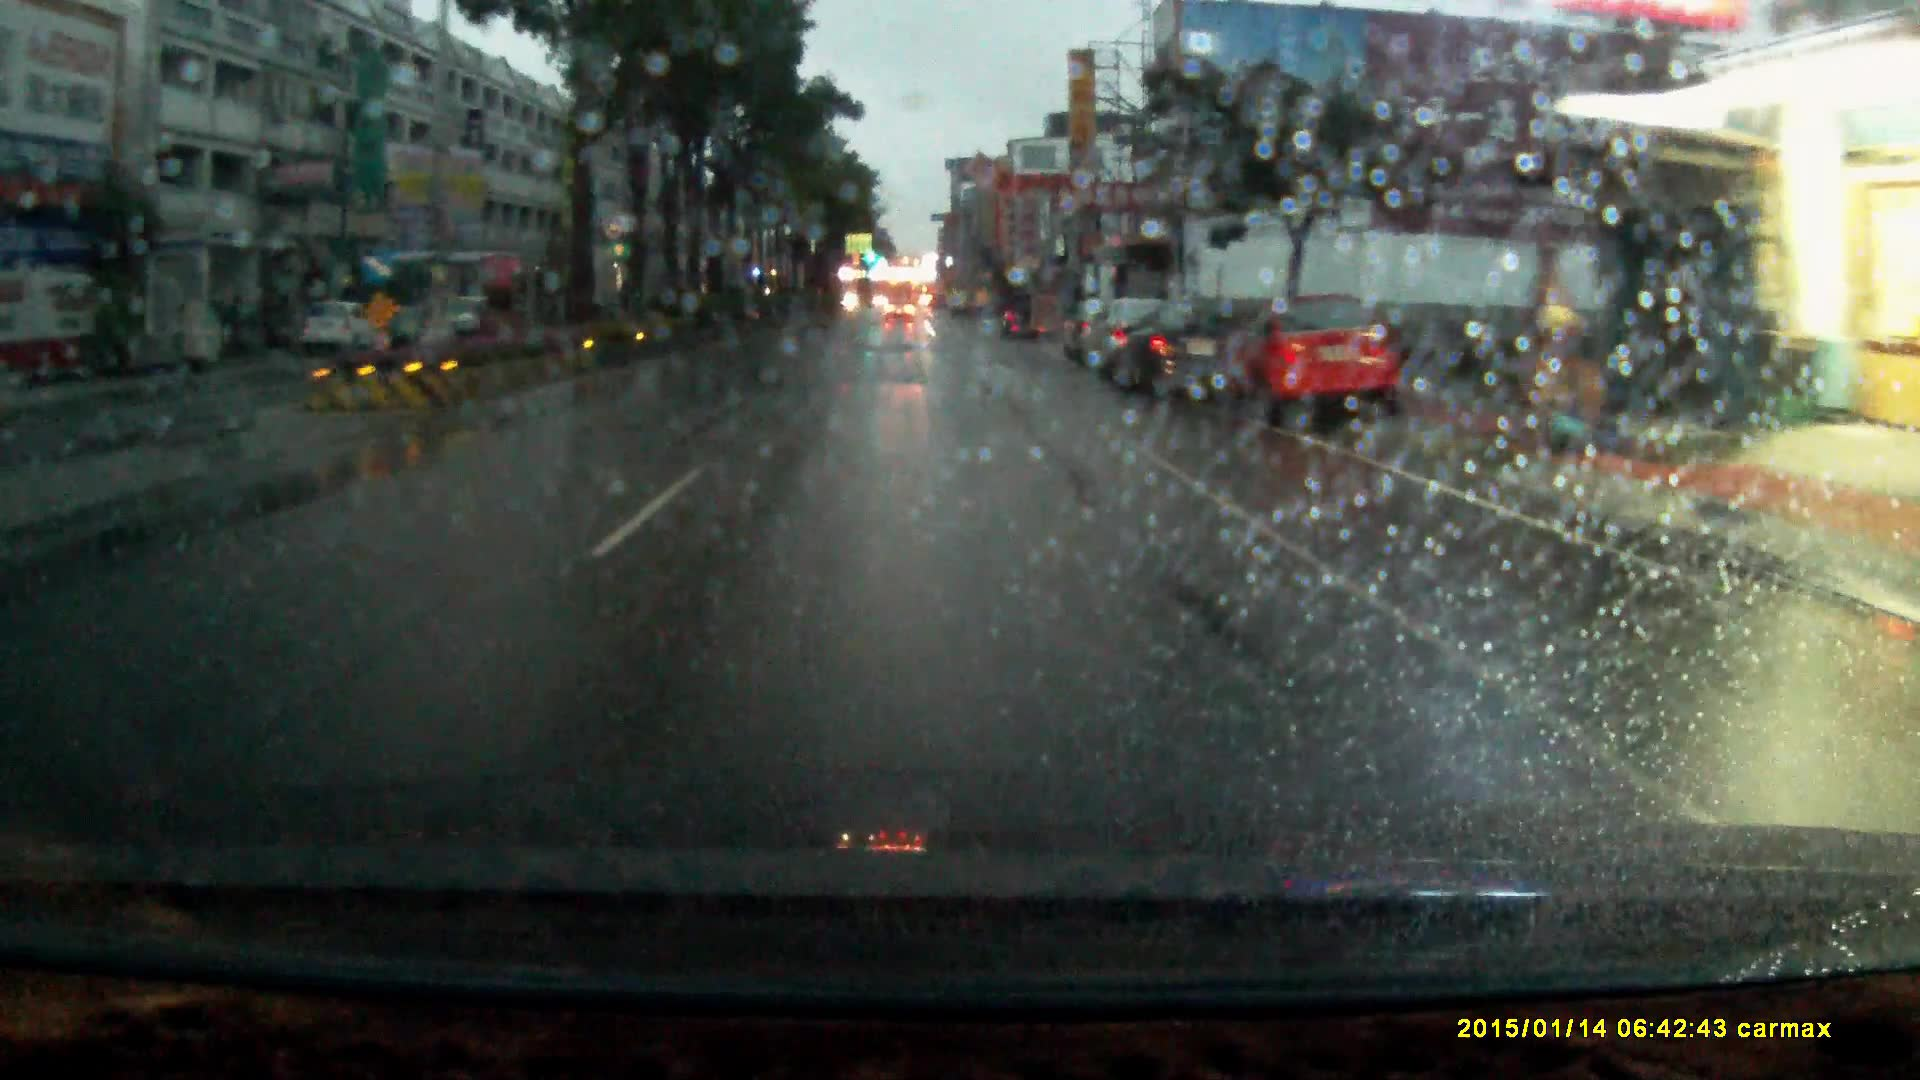vehicle: (1220, 301, 1403, 429), (1109, 302, 1242, 409), (1083, 301, 1167, 381), (415, 297, 516, 342), (302, 302, 381, 359), (996, 293, 1054, 344), (1060, 301, 1106, 361), (884, 301, 918, 328)
